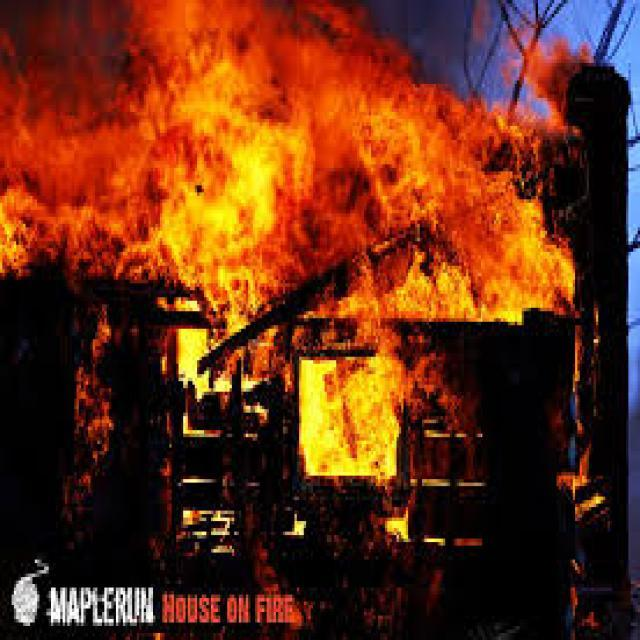Fire: (132, 66, 548, 316)
